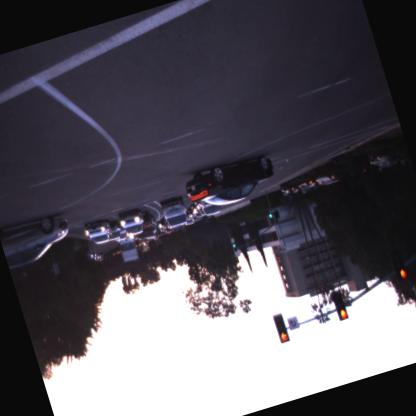trafficlight: (391, 250, 412, 286), (330, 288, 350, 323), (274, 314, 290, 343), (266, 211, 276, 225), (232, 239, 238, 254)
